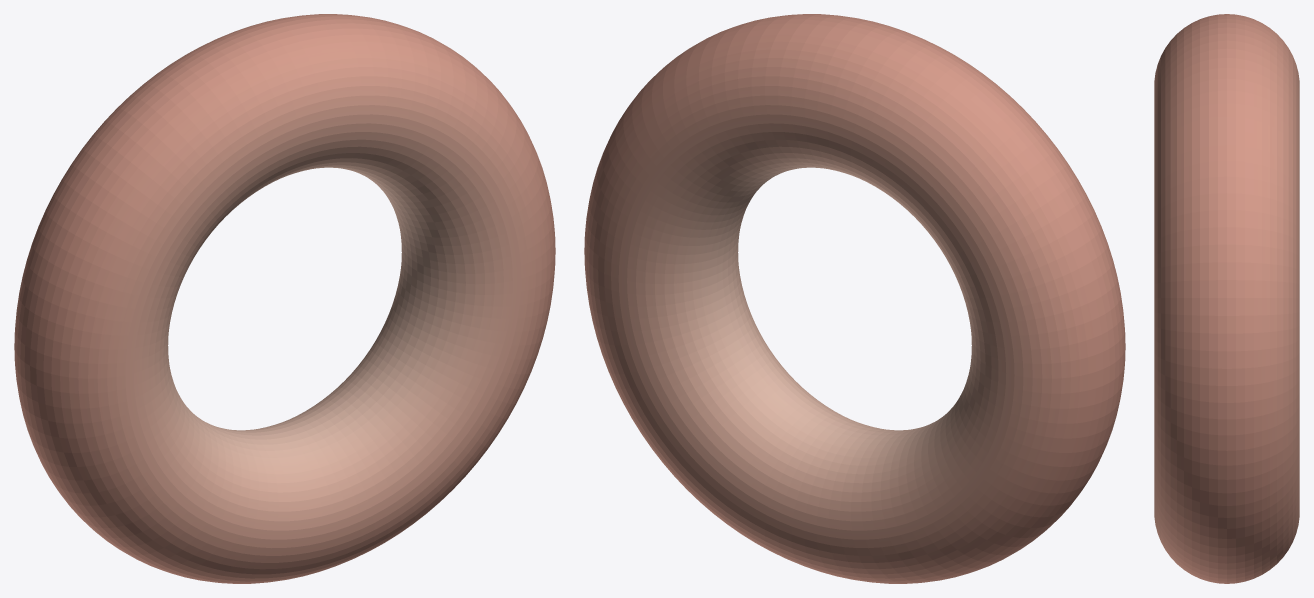
3 renders of one model, left to right at view 1: azimuth 30°, elevation 25°; view 2: azimuth 150°, elevation 25°; view 3: azimuth 270°, elevation 25°, orthographic. The views are drawn at different scales.
Visible parts, largest first — view 1: world; view 2: world; view 3: world.
Boxes of the visible parts, x1,y1,x2,y2 form: world: (14,14,555,583); world: (584,14,1125,583); world: (1154,14,1299,583).
Size of the model in its own units: 28.67 by 28.67 by 7.32.
